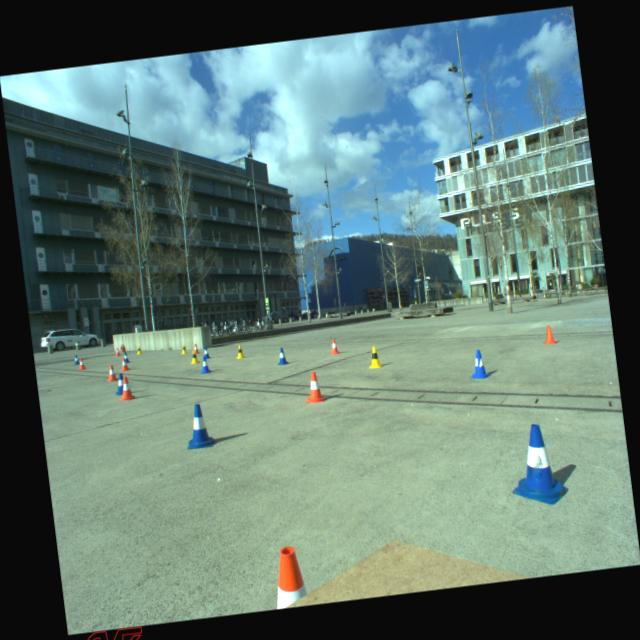blue_cone: (503, 420, 569, 510), (182, 401, 215, 449), (467, 348, 491, 380), (112, 372, 126, 396), (198, 354, 212, 374), (275, 346, 289, 364), (203, 346, 210, 358), (72, 354, 80, 364), (124, 352, 130, 362)
orange_cone: (302, 371, 325, 404), (115, 374, 137, 402), (540, 324, 557, 345), (104, 364, 119, 382), (328, 338, 340, 355), (119, 356, 131, 371), (77, 357, 87, 370), (193, 343, 200, 354), (114, 347, 121, 356)
yellow_cone: (366, 344, 382, 368), (188, 349, 199, 364), (234, 344, 244, 358), (180, 343, 188, 354), (136, 344, 142, 354)
